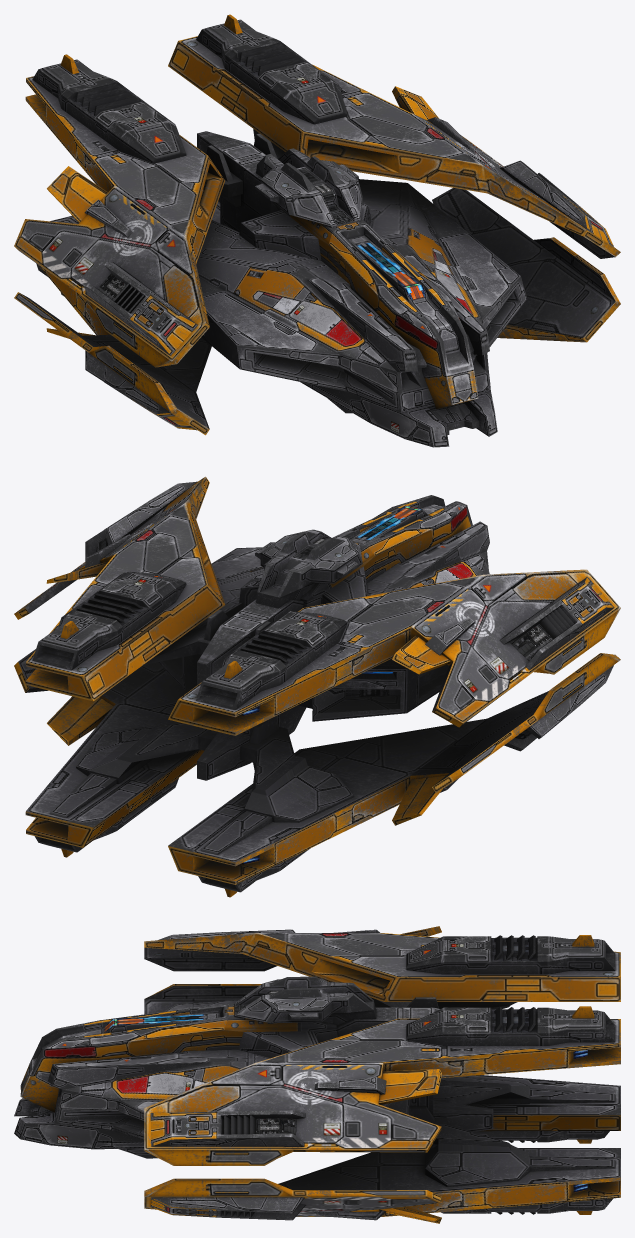
The picture shows the model from 3 angles, top to bottom: view 1: azimuth 30°, elevation 25°; view 2: azimuth 150°, elevation 25°; view 3: azimuth 270°, elevation 25°; orthographic projection. The views are drawn at different scales.
Visible parts, largest first — view 1: SciFi_Fighter_AK5_SciFi_Fighter_AK5_0; view 2: SciFi_Fighter_AK5_SciFi_Fighter_AK5_0; view 3: SciFi_Fighter_AK5_SciFi_Fighter_AK5_0.
Boxes of the visible parts, box(x1,y1,x2,y2) form: SciFi_Fighter_AK5_SciFi_Fighter_AK5_0: box(14, 14, 620, 447); SciFi_Fighter_AK5_SciFi_Fighter_AK5_0: box(14, 476, 620, 897); SciFi_Fighter_AK5_SciFi_Fighter_AK5_0: box(14, 926, 620, 1223).
Size of the model in its own units: 1544 by 748 by 1982.
Materials: 1 (1 with a texture image).
